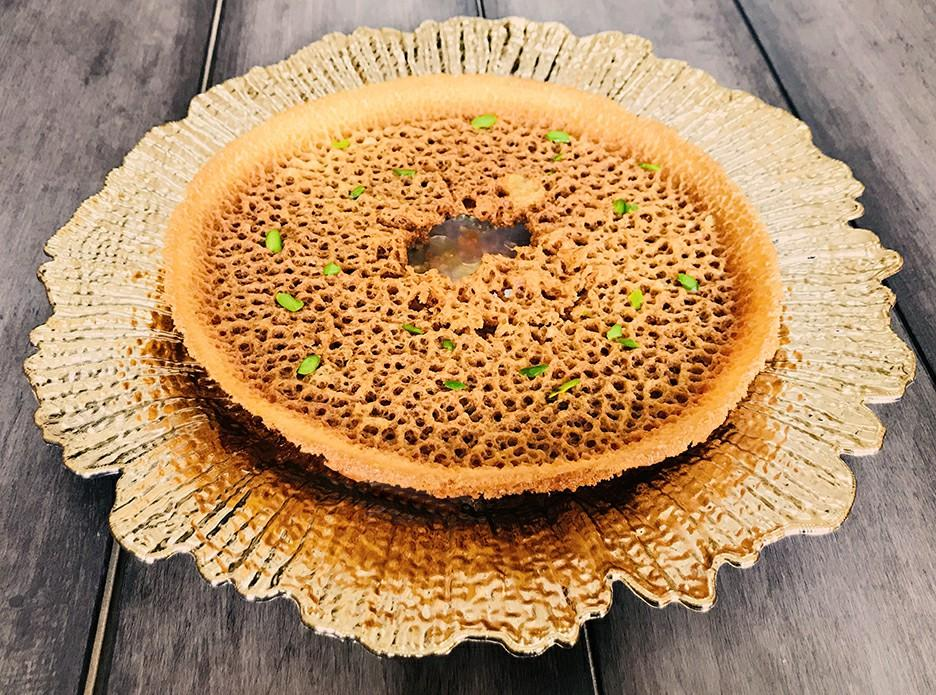Ghevar: (164, 73, 785, 495)
